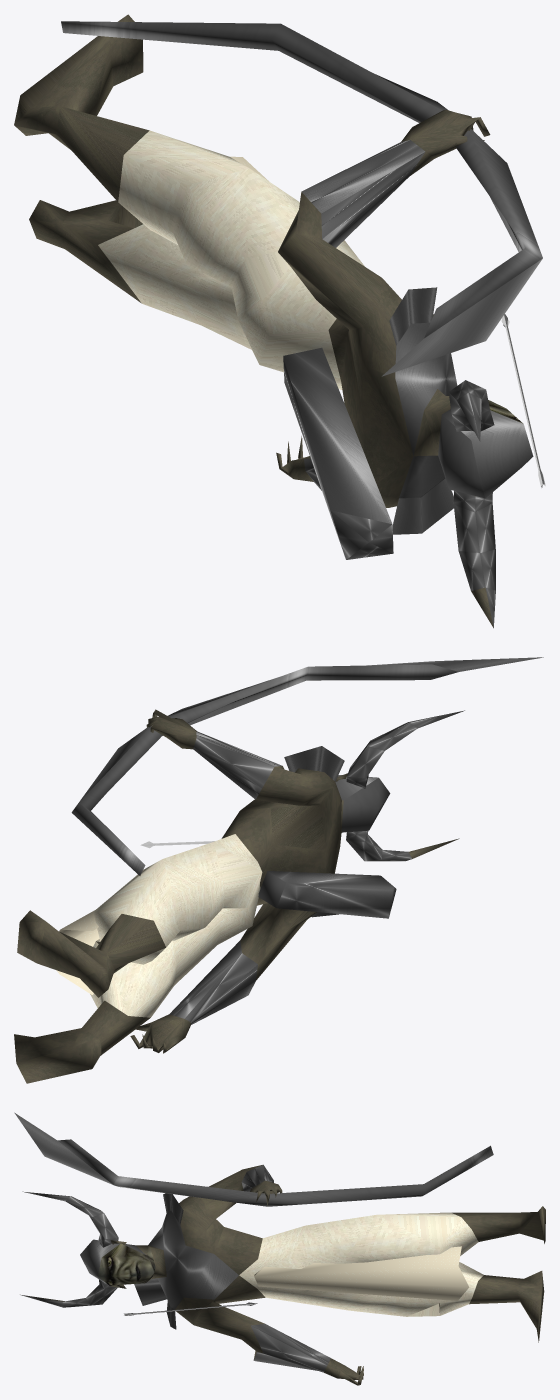
The model's file is lanka_000225.obj.
The picture shows the model from 3 angles, top to bottom: view 1: azimuth 30°, elevation 25°; view 2: azimuth 150°, elevation 25°; view 3: azimuth 270°, elevation 25°; orthographic projection. The views are drawn at different scales.
Parts seen in each view (by area): view 1: A4_Circle, A4.001_Circle.001; view 2: A4_Circle, A4.001_Circle.001; view 3: A4_Circle, A4.001_Circle.001.
Boxes of the visible parts, bbox=[...] form: A4_Circle: bbox=[14, 14, 542, 559]; A4.001_Circle.001: bbox=[448, 380, 495, 628]; A4_Circle: bbox=[14, 657, 543, 1083]; A4.001_Circle.001: bbox=[346, 710, 464, 861]; A4_Circle: bbox=[14, 1112, 545, 1385]; A4.001_Circle.001: bbox=[20, 1191, 118, 1307].
Bounding box in the file's own units: 1.29 × 1.4 × 3.18.
